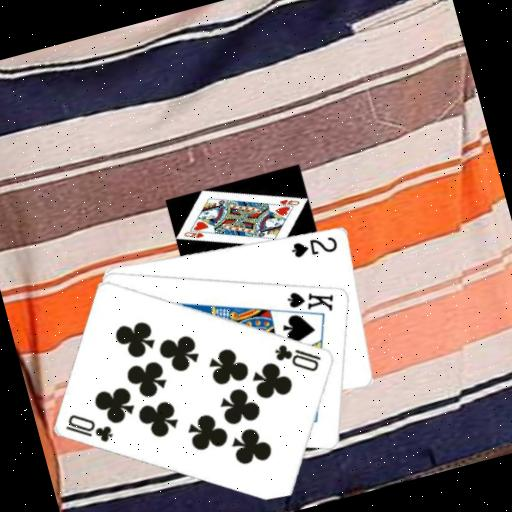10C: (58, 401, 117, 453), (269, 331, 326, 381)
2S: (286, 229, 341, 264)
KS: (282, 279, 339, 323)
